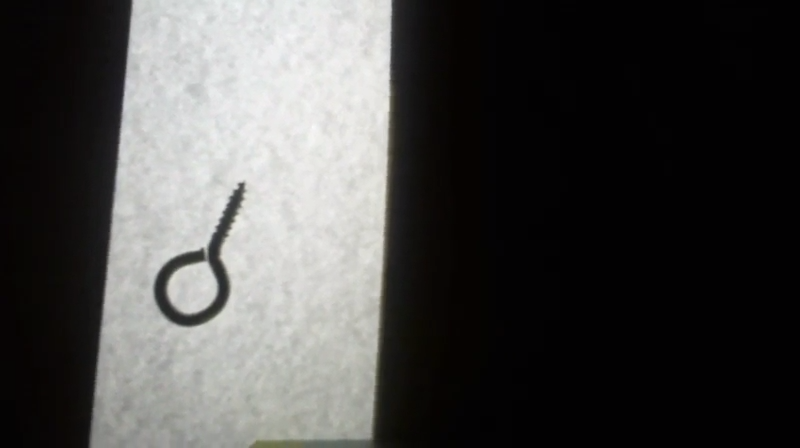O001: (148, 178, 249, 330)
